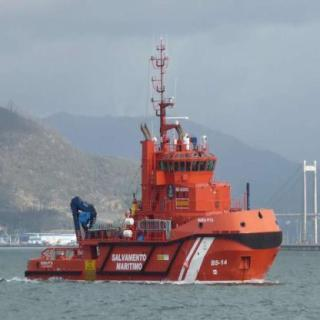Tug Boat: (25, 74, 278, 288)
